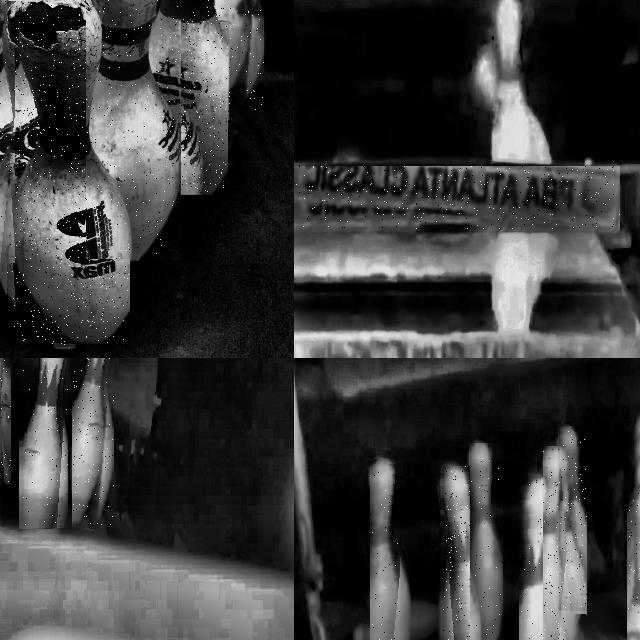bowling-pins: (7, 0, 130, 345), (87, 0, 180, 259), (158, 0, 228, 193), (22, 358, 62, 528), (443, 466, 481, 640), (470, 443, 503, 640), (520, 476, 555, 640), (205, 0, 252, 119), (73, 358, 105, 526), (371, 459, 400, 640), (559, 427, 587, 609), (543, 447, 566, 640)
sweep board: (294, 167, 619, 229)
